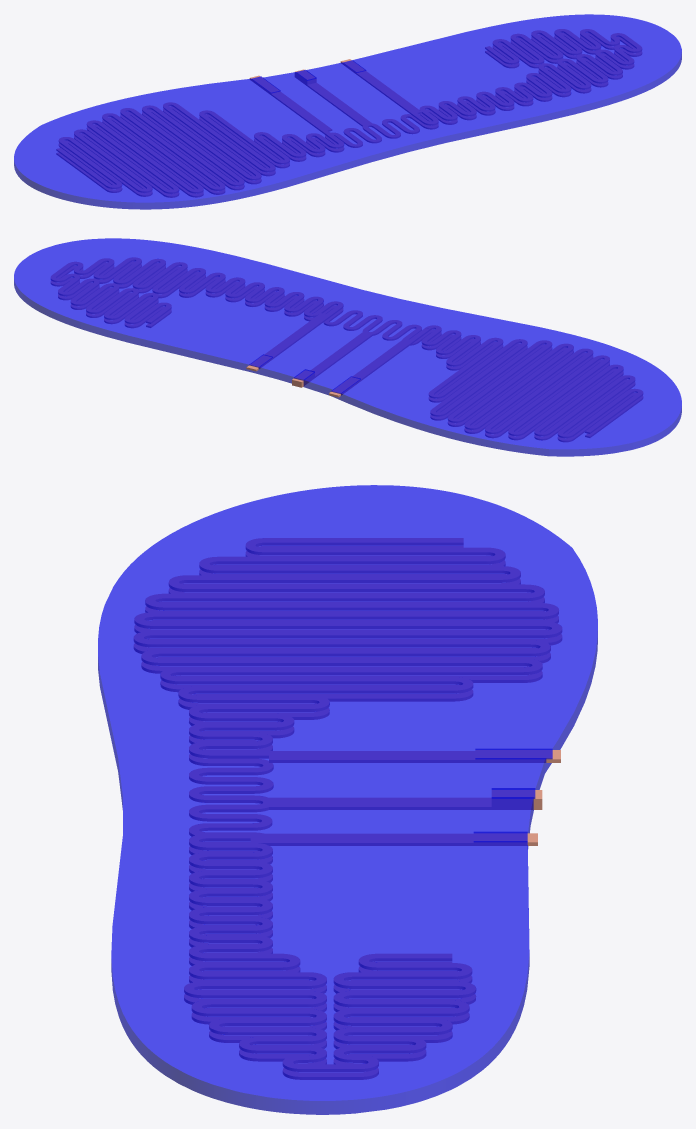
The model's file is InsoleV5.glb.
3 views of the same model, one above another, from view 1: azimuth 30°, elevation 25°; view 2: azimuth 150°, elevation 25°; view 3: azimuth 270°, elevation 25° (orthographic). The views are drawn at different scales.
Bounding box in the file's own units: 0.2669 × 0.0028 × 0.0916.
